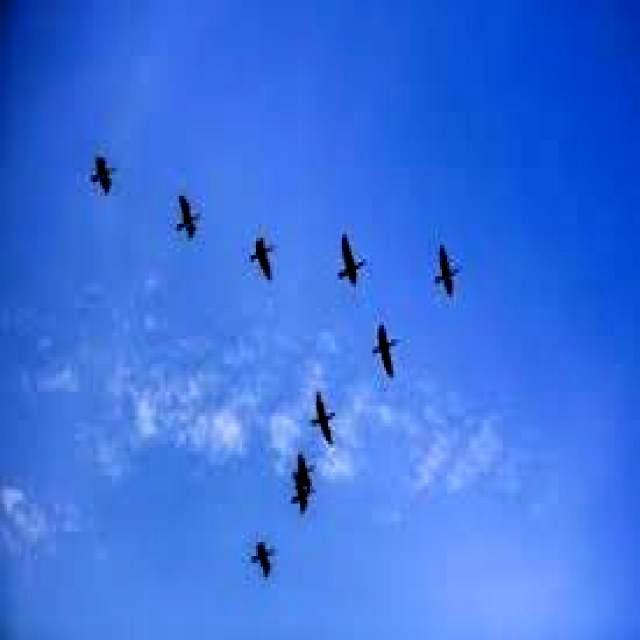bird: (321, 232, 375, 290), (297, 386, 349, 446), (426, 235, 472, 301), (366, 316, 410, 379), (78, 150, 126, 202), (241, 228, 284, 284), (166, 190, 208, 245), (242, 534, 280, 587), (285, 446, 326, 489), (284, 476, 324, 518)
